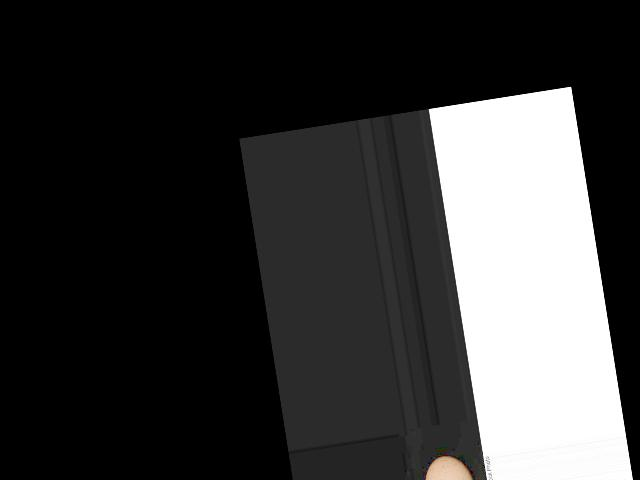egg: (421, 452, 479, 480)
